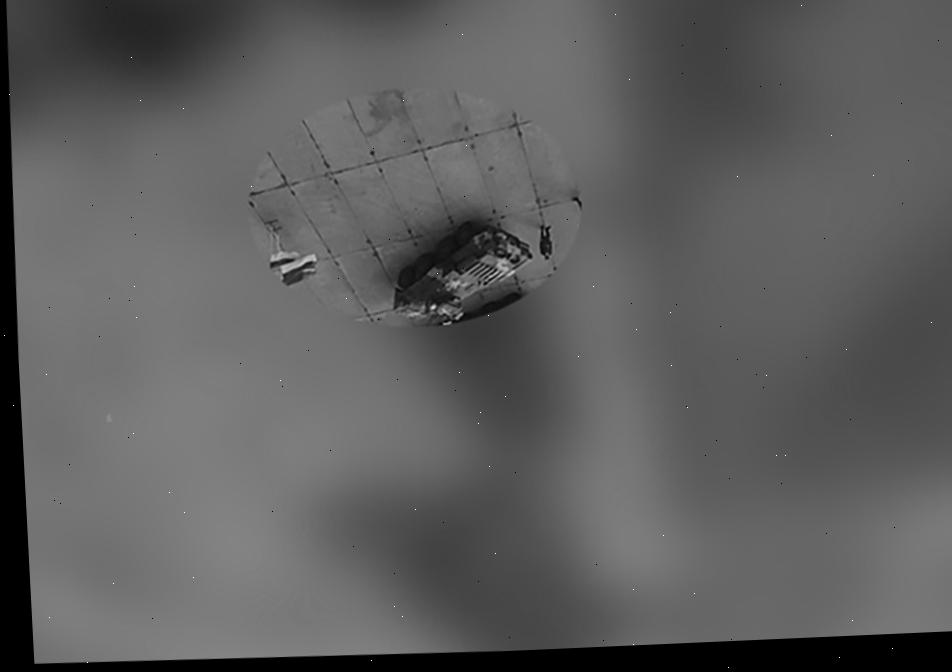armored_car: (380, 215, 538, 334)
